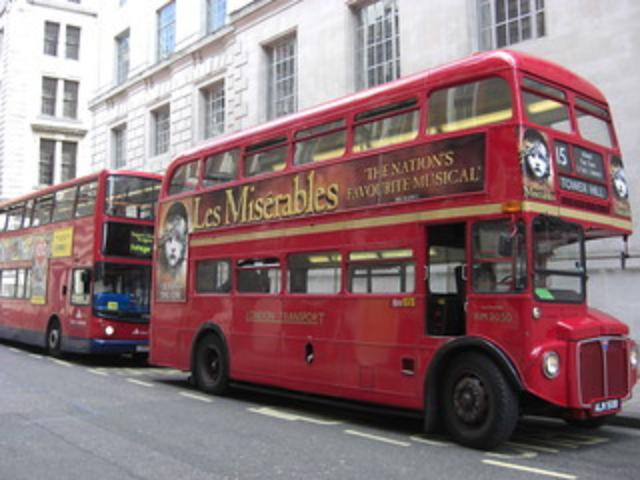bus: (146, 48, 640, 452), (2, 168, 168, 362)
